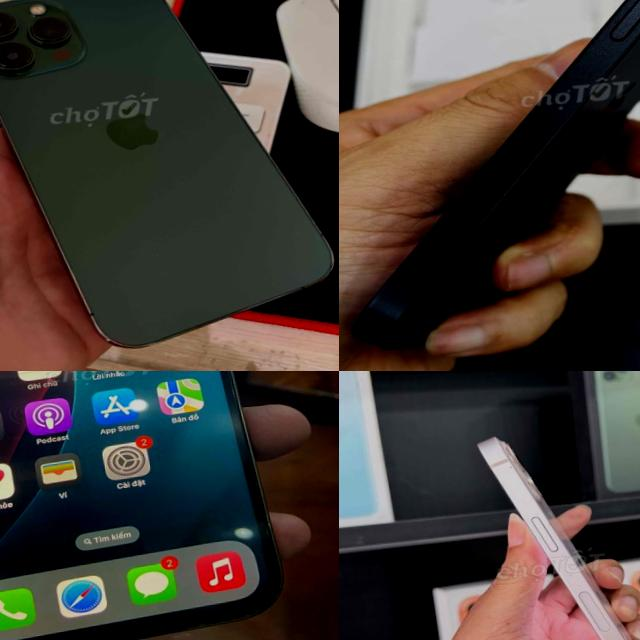gen_12_13: (0, 0, 339, 361), (0, 371, 286, 640), (462, 411, 640, 640)
gen_16: (353, 0, 640, 348)
